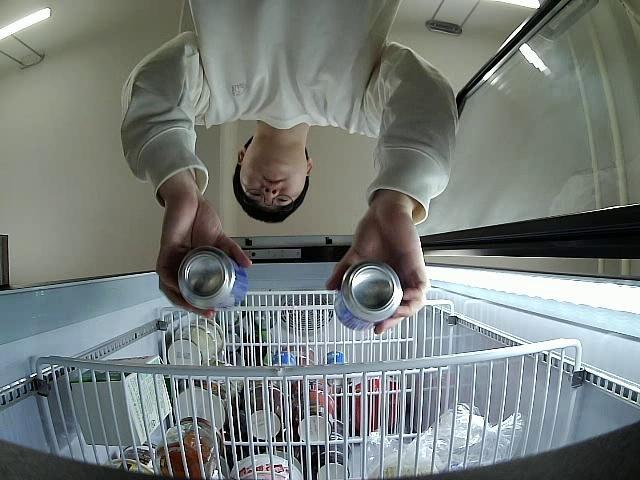13_pocariSweat: (333, 263, 402, 334), (178, 250, 246, 310)
